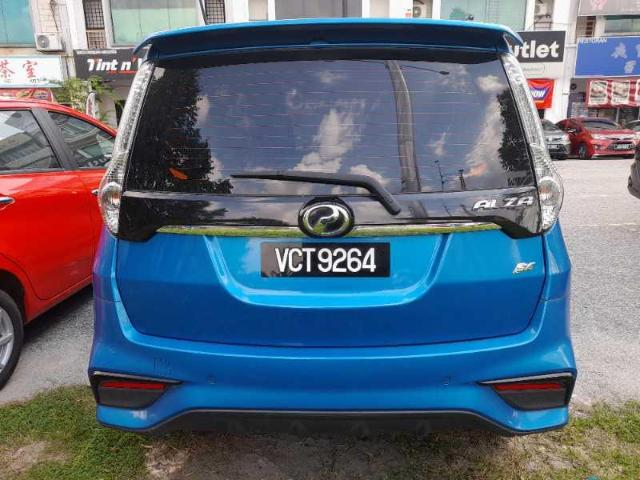License_Plate: (261, 242, 391, 279)
car: (88, 17, 579, 437)
